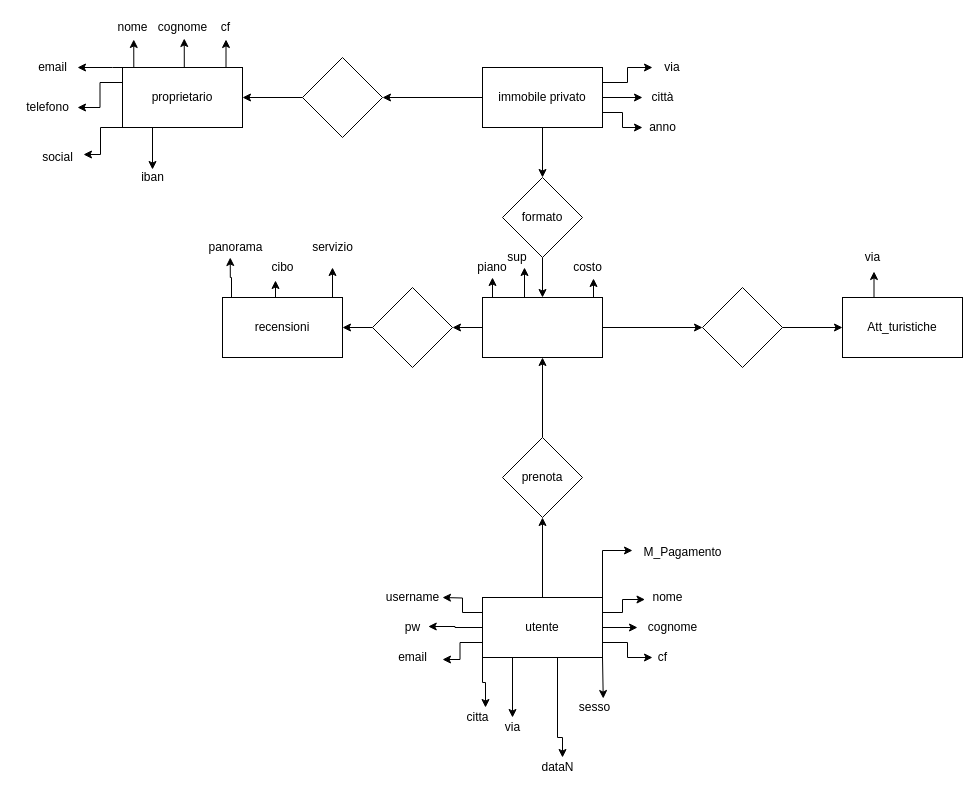
Image size: 980x794. Some labels were removed from this diagram. The box of each missing label's shape, as (x1, y1, x2, y2) in pixels:
appartamenti: (482, 296, 602, 358)
gestice: (302, 56, 382, 138)
possiede: (372, 286, 452, 368)
sono vicine a: (702, 286, 782, 368)
